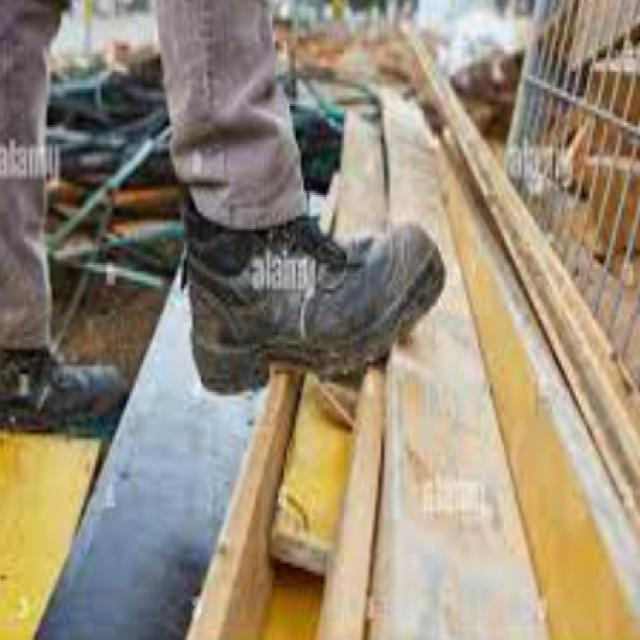boots: (0, 146, 452, 438)
